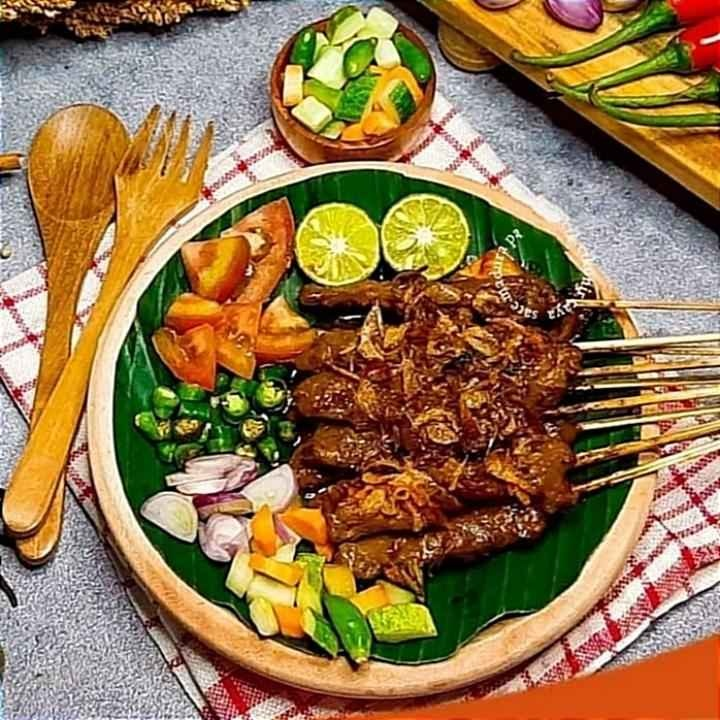sate_madura: (287, 278, 720, 582)
